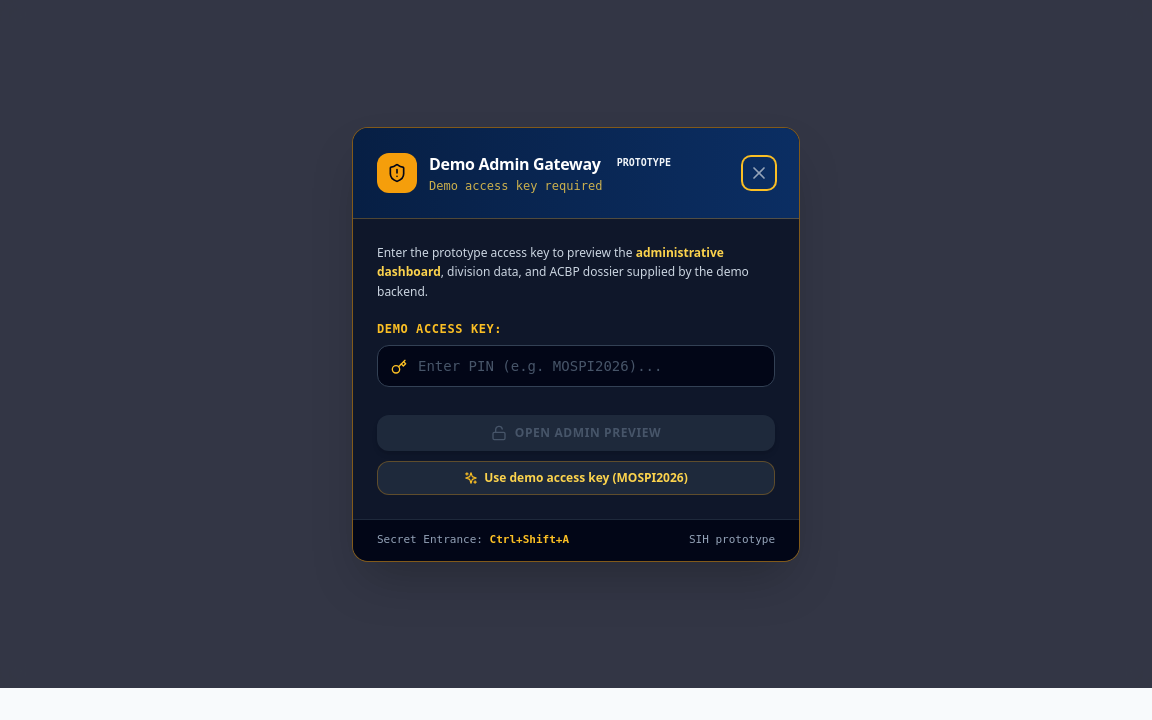
Test: iGOT Karmayogi Universal Accessibility Console, AI Sahayak Guide & Navigation Suite › TC_GATE_001: validates ministerial clearance passcode and unlocks HQ Admin Command Center
In the password field named "Demo admin access key": (576, 366) [377, 345, 775, 387], type "WRONGPIN"
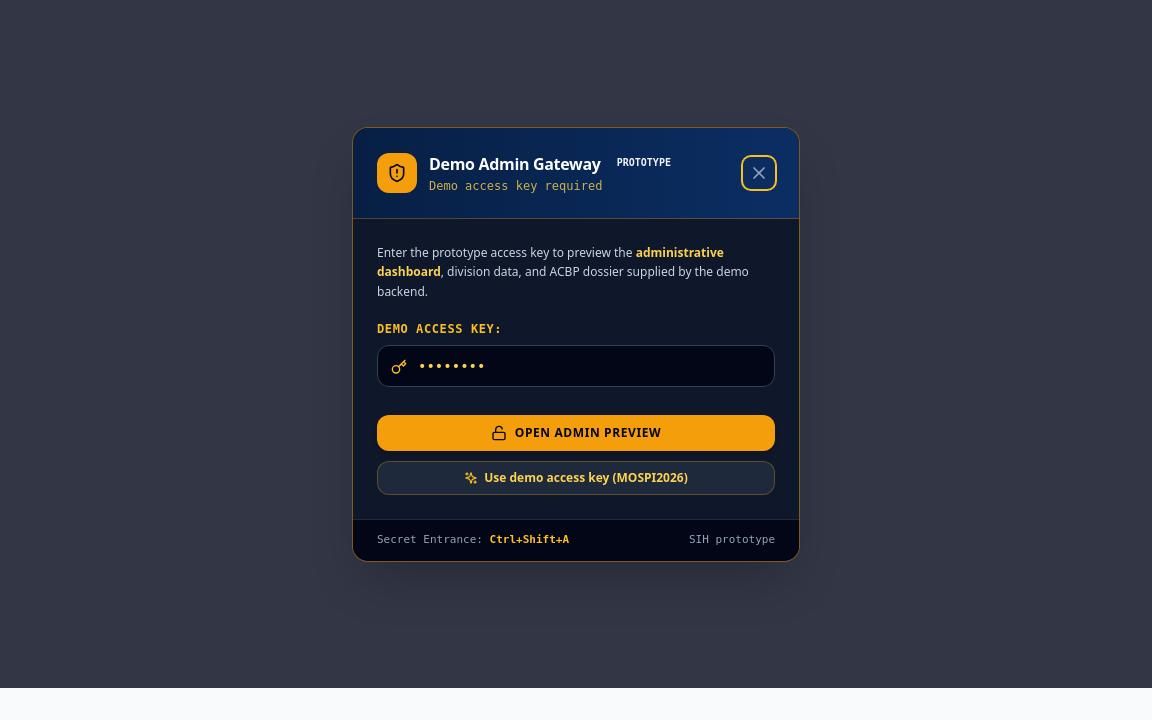
Click the button "Open admin preview": (576, 433) [377, 415, 775, 451]
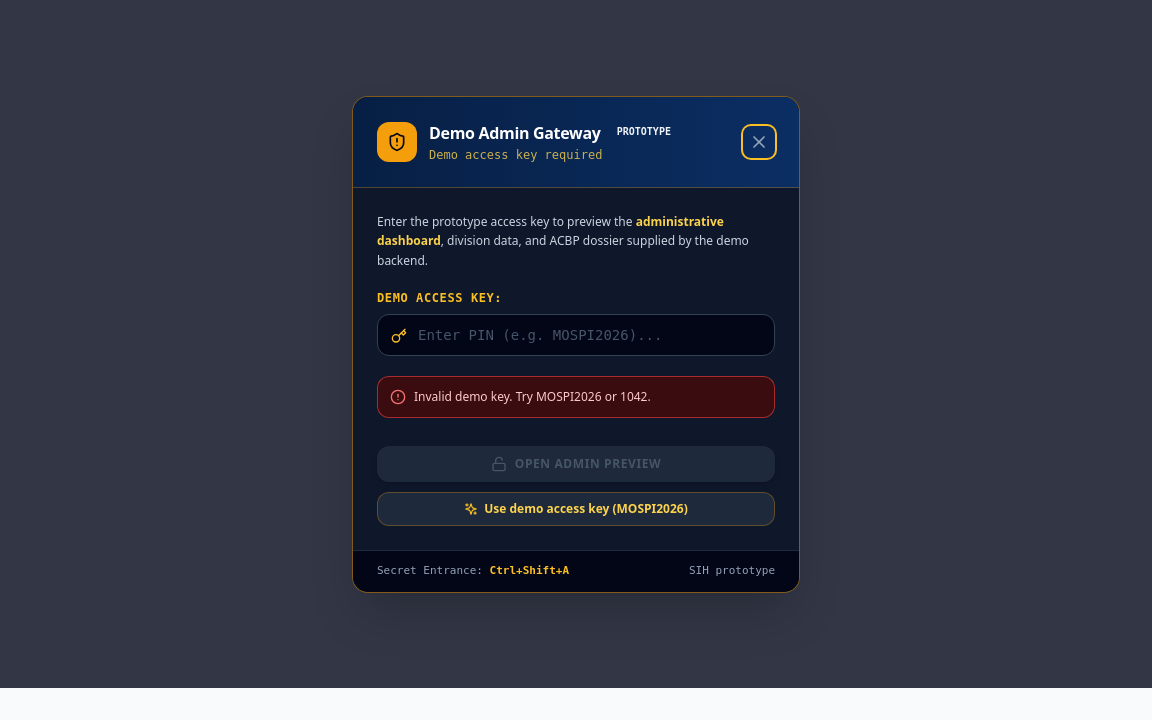
Expected: the message "Invalid demo key. Try MOSPI2026 or 1042." is shown, [377, 376, 775, 418]
Expected: the text "Invalid demo key. Try MOSPI2026 or 1042." is shown, [414, 389, 651, 405]
Enter valid PIN
In the password field named "Demo admin access key": (576, 335) [377, 314, 775, 356], type "MOSPI2026"
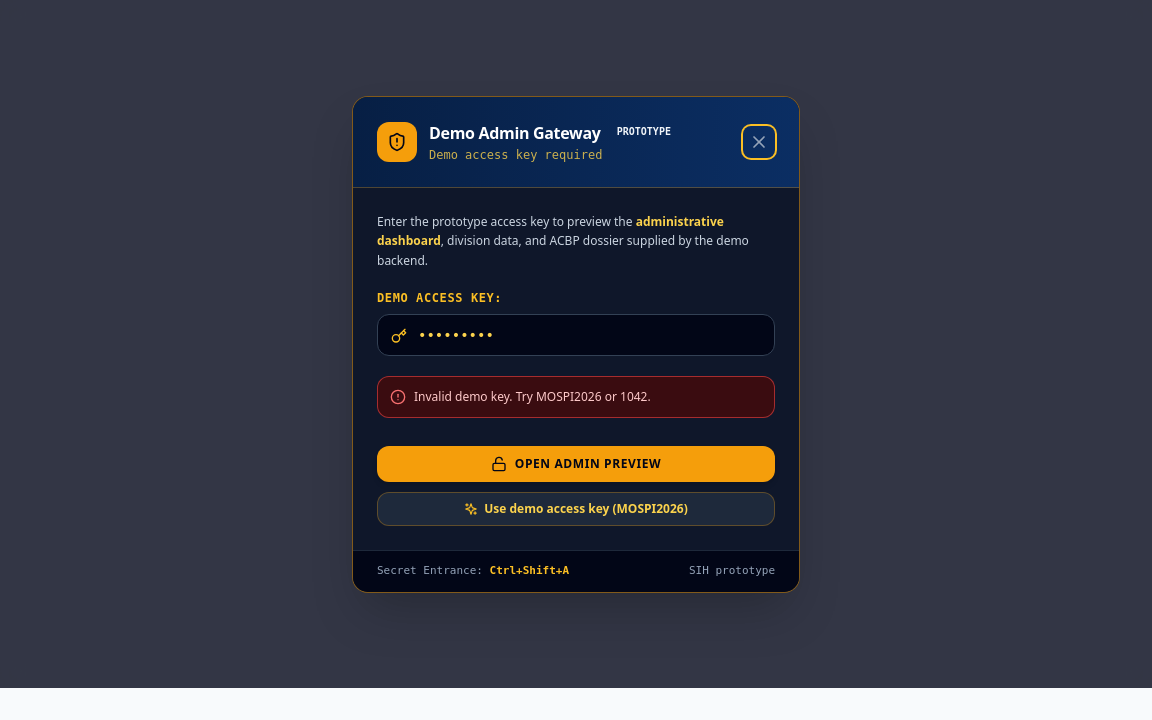
Click the button "Open admin preview": (576, 464) [377, 446, 775, 482]
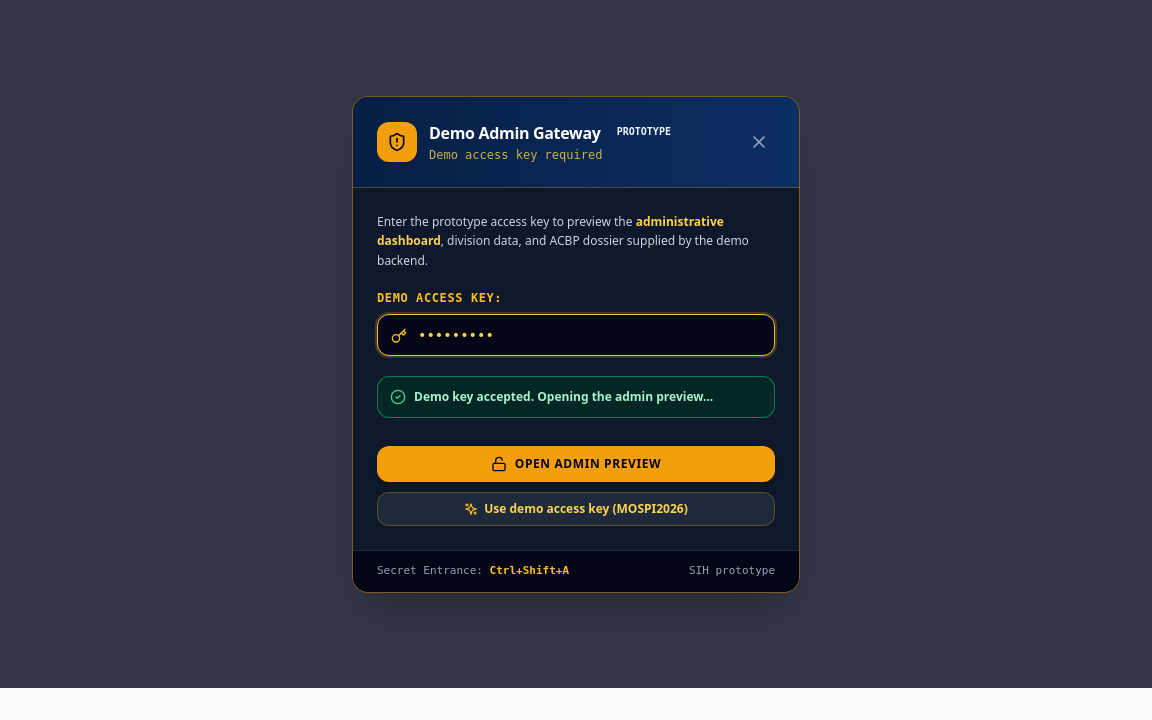
Expected: the text "Demo key accepted. Opening the admin preview..." is shown, [414, 389, 713, 405]
